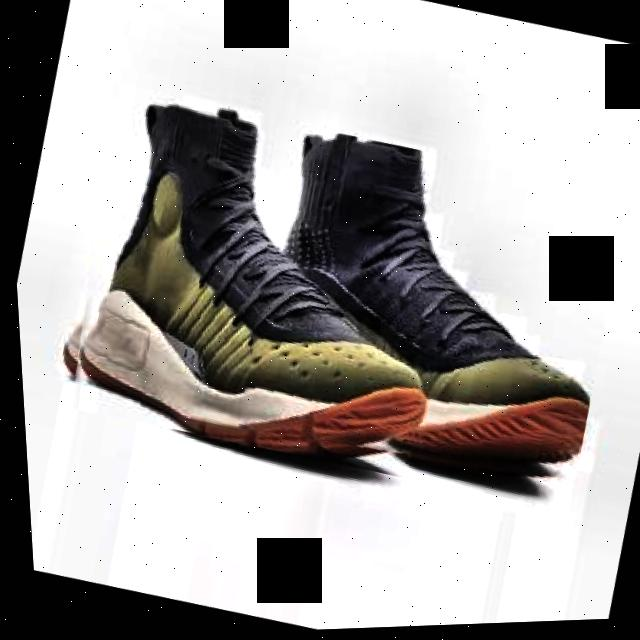shoe: (32, 73, 479, 491), (209, 115, 640, 512)
